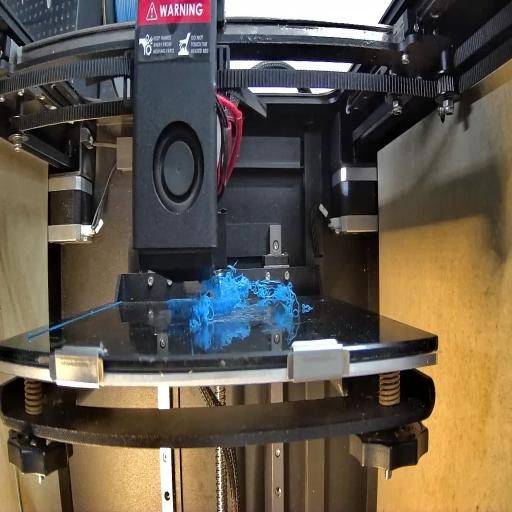spaghetti: (212, 268, 296, 313), (187, 291, 216, 334)
